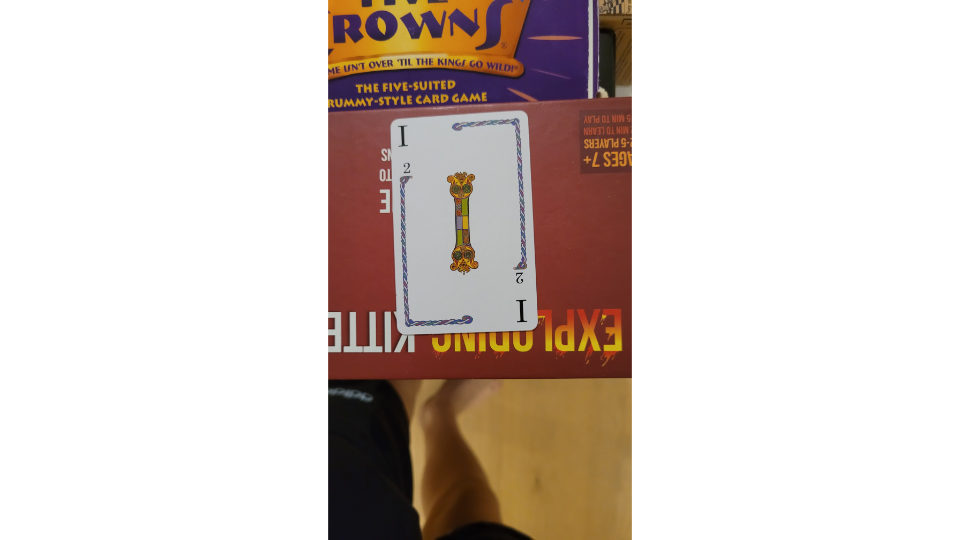I: (387, 108, 543, 335)
